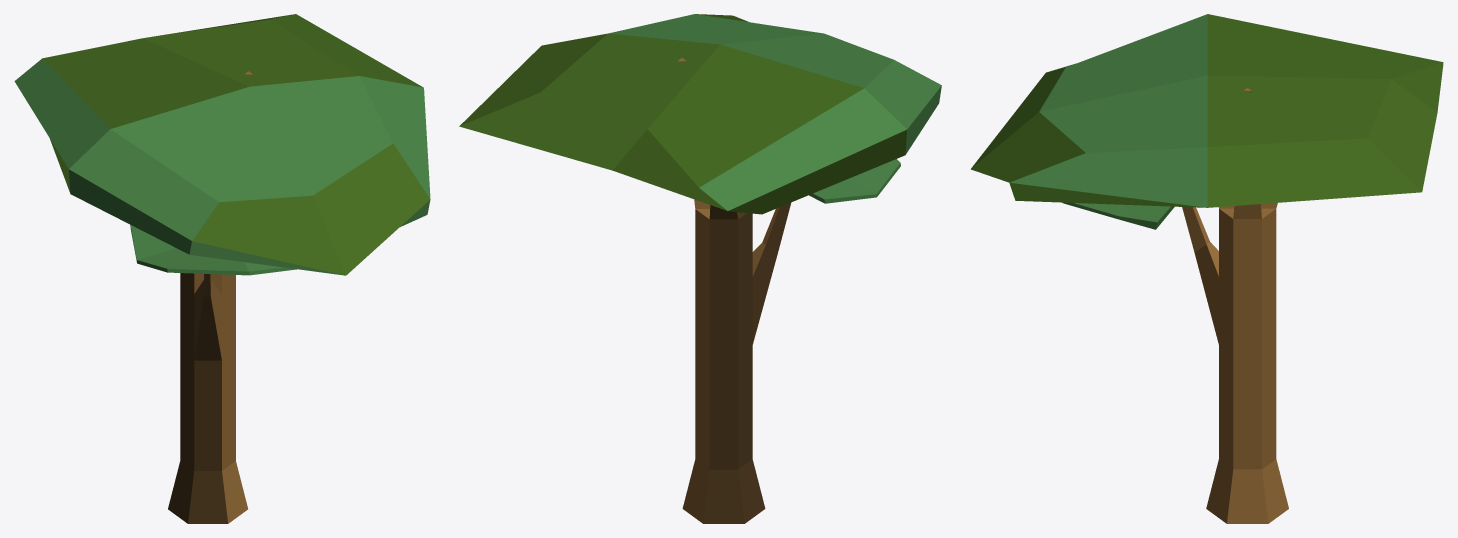
Rendered from Pine_Tree.fbx.
3 renders of one model, left to right at view 1: azimuth 30°, elevation 25°; view 2: azimuth 150°, elevation 25°; view 3: azimuth 270°, elevation 25°, orthographic. The views are drawn at different scales.
Visible parts, largest first — view 1: Pine_tree_Log; view 2: Pine_tree_Log; view 3: Pine_tree_Log.
Boxes of the visible parts, x1=… form: Pine_tree_Log: x1=14, y1=14, x2=430, y2=523; Pine_tree_Log: x1=459, y1=14, x2=941, y2=523; Pine_tree_Log: x1=971, y1=14, x2=1443, y2=523.
Size of the model in its own units: 736 by 855 by 824.
